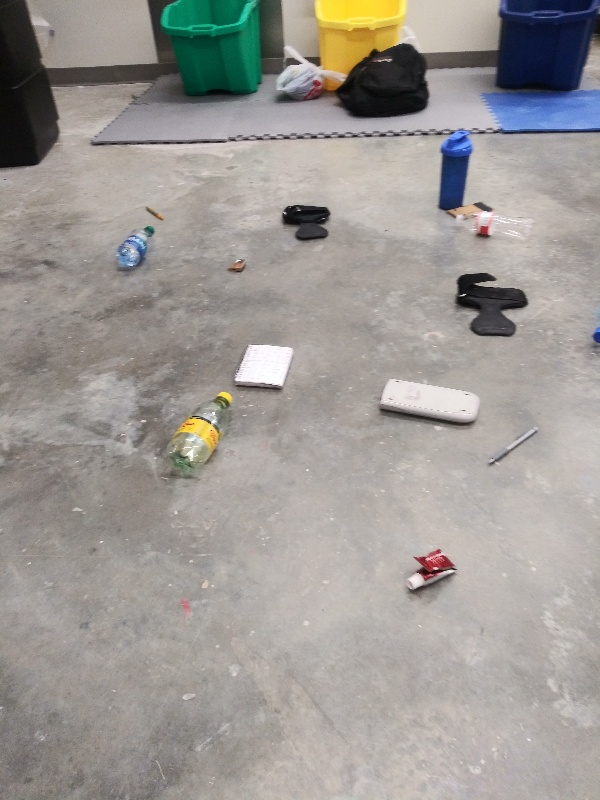bottle: (159, 387, 238, 480), (450, 211, 540, 246), (113, 221, 158, 273)
